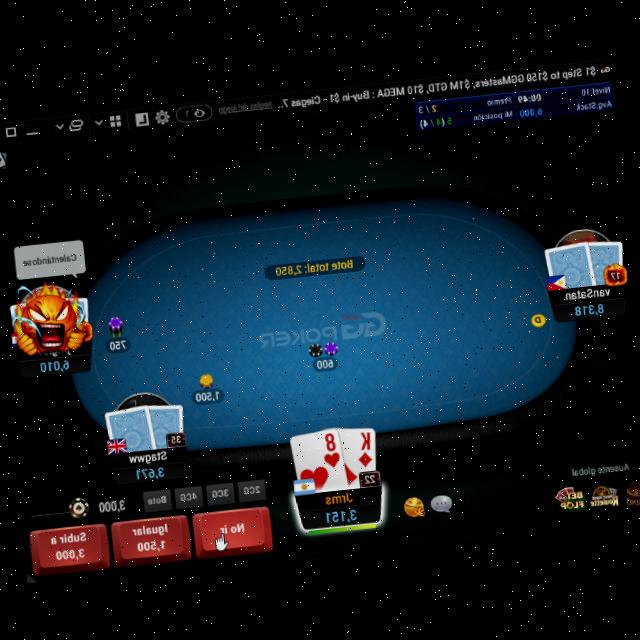8h: (320, 428, 341, 468)
9h: (319, 428, 342, 468)
Kd: (352, 426, 375, 466)
bet_text: (192, 384, 222, 402), (106, 334, 128, 349), (314, 354, 336, 368)
card_back: (541, 235, 596, 290), (102, 398, 156, 451), (580, 234, 628, 286), (141, 397, 186, 445)
dealer: (528, 308, 548, 326)
hero_active: (23, 500, 276, 574)
pot_text: (272, 254, 356, 276)
stack_text: (322, 501, 360, 523), (572, 298, 604, 316), (134, 460, 164, 477), (39, 354, 69, 370)
